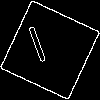I: (25, 25, 53, 72)
